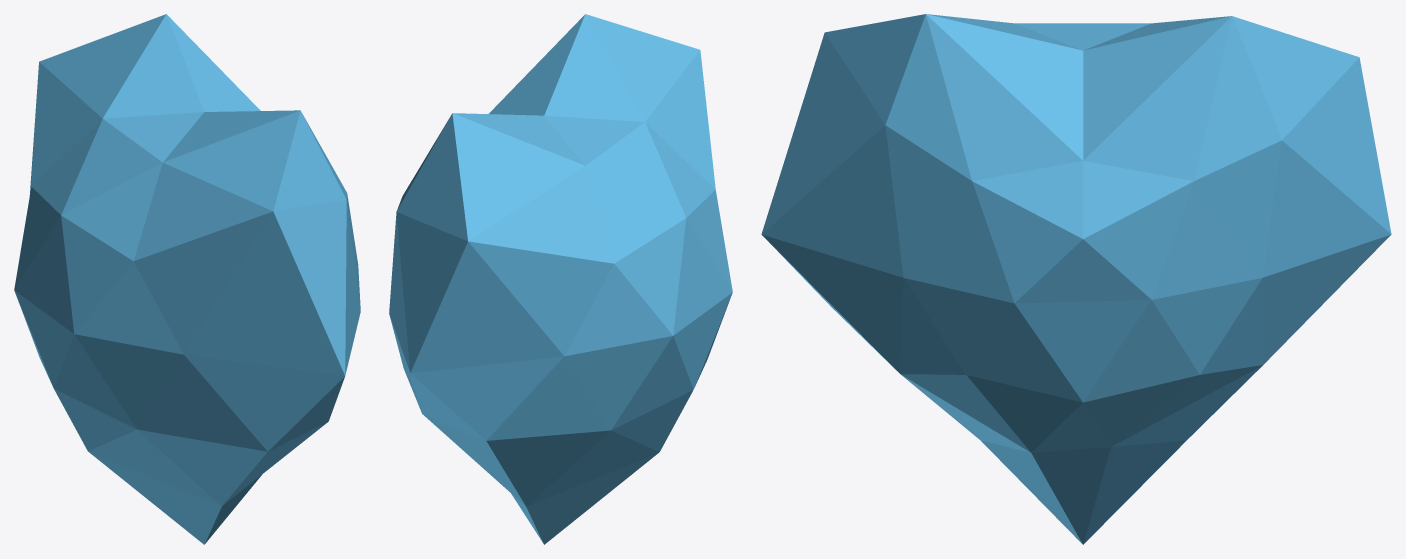
File: TextureTestCaveHEART-Crystals.fbx
The picture shows the model from 3 angles, left to right: view 1: azimuth 30°, elevation 25°; view 2: azimuth 150°, elevation 25°; view 3: azimuth 270°, elevation 25°; orthographic projection. The views are drawn at different scales.
Visible parts, largest first — view 1: Icosphere.001; view 2: Icosphere.001; view 3: Icosphere.001.
Boxes of the visible parts, x1,y1,x2,y2 form: Icosphere.001: [14, 14, 360, 544]; Icosphere.001: [389, 14, 732, 544]; Icosphere.001: [761, 14, 1391, 544].
Size of the model in its own units: 848 by 1341 by 1402.
